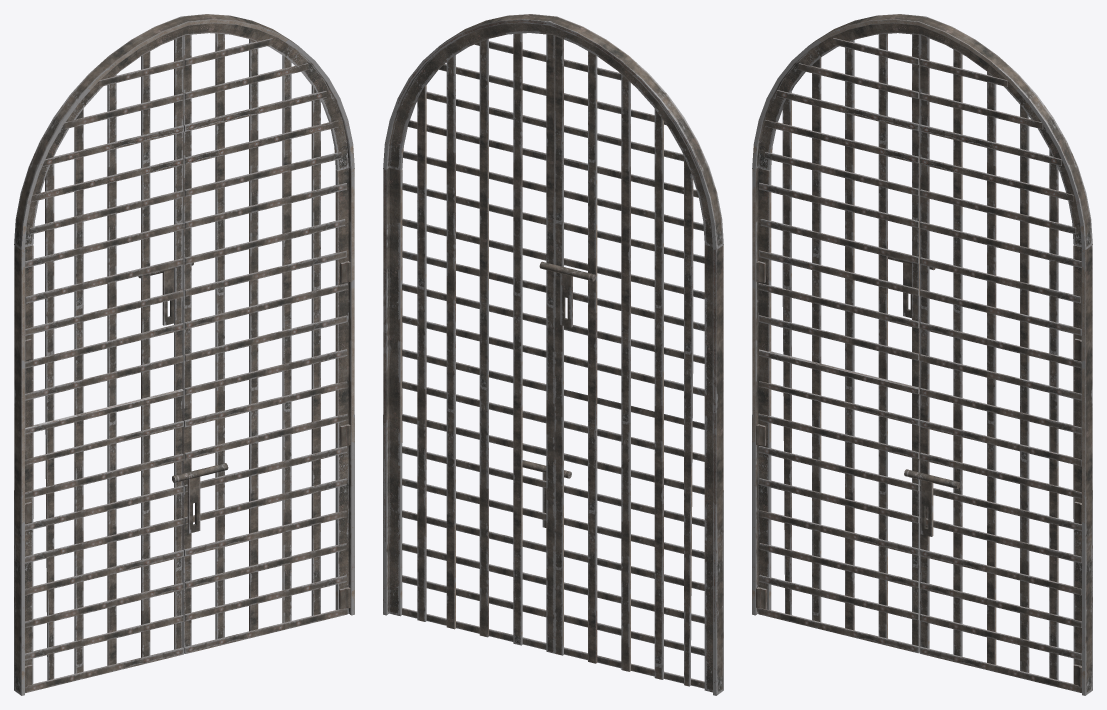
Rendered from SM_MetalGate03.FBX.
3 views of the same model, side by side, from view 1: azimuth 30°, elevation 25°; view 2: azimuth 150°, elevation 25°; view 3: azimuth 330°, elevation 25° (orthographic).
Visible parts, largest first — view 1: SM_MetalGate03; view 2: SM_MetalGate03; view 3: SM_MetalGate03.
Part boxes in pixels (x1,y1,x2,y2): SM_MetalGate03: [14, 14, 354, 695]; SM_MetalGate03: [383, 14, 723, 695]; SM_MetalGate03: [752, 14, 1092, 695].
Size of the model in its own units: 308 by 13.62 by 560.
